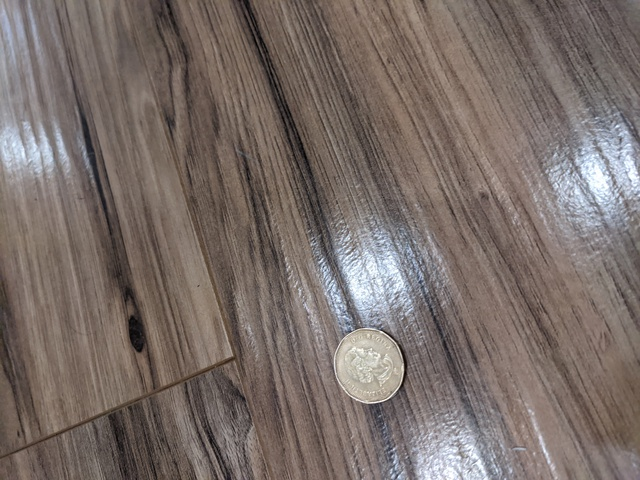loonie: (327, 316, 409, 411)
